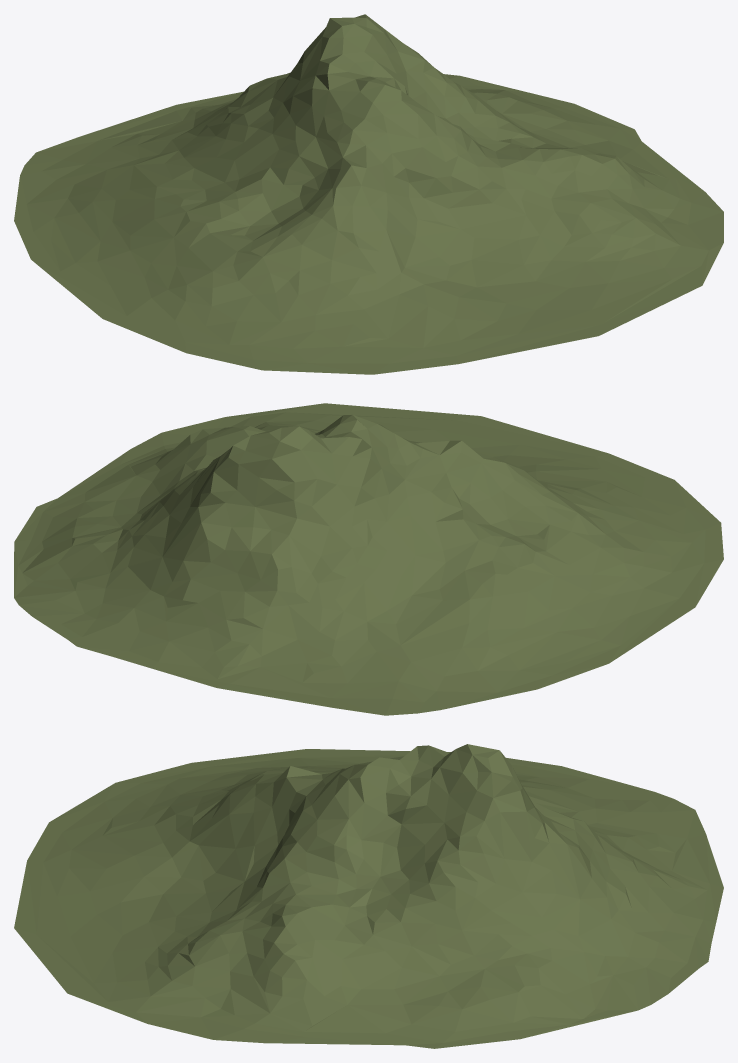
The model's file is SM_Envr_Nature_Terrain_Ground_Mound_02.fbx.
The picture shows the model from 3 angles, top to bottom: view 1: azimuth 30°, elevation 25°; view 2: azimuth 150°, elevation 25°; view 3: azimuth 270°, elevation 25°; orthographic projection. The views are drawn at different scales.
Visible parts, largest first — view 1: SM_Envr_Nature_Terrain_Ground_Mound_02; view 2: SM_Envr_Nature_Terrain_Ground_Mound_02; view 3: SM_Envr_Nature_Terrain_Ground_Mound_02.
Boxes of the visible parts, box(x1,y1,x2,y2) form: SM_Envr_Nature_Terrain_Ground_Mound_02: box(14, 14, 723, 374); SM_Envr_Nature_Terrain_Ground_Mound_02: box(14, 403, 723, 715); SM_Envr_Nature_Terrain_Ground_Mound_02: box(14, 744, 723, 1048).
Bounding box in the file's own units: 1600 × 410 × 1600.
